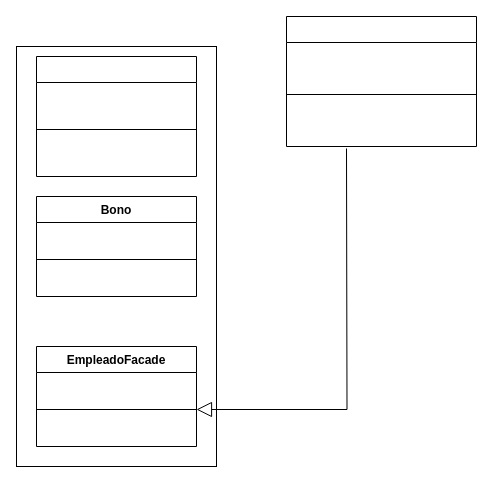
This 493x483 diagram has some shape labels left out. The box of each missing label's shape, as (x1, y1, x2, y2) in pixels:
Beneficio: (36, 56, 196, 176)
Nomina: (286, 16, 476, 146)
